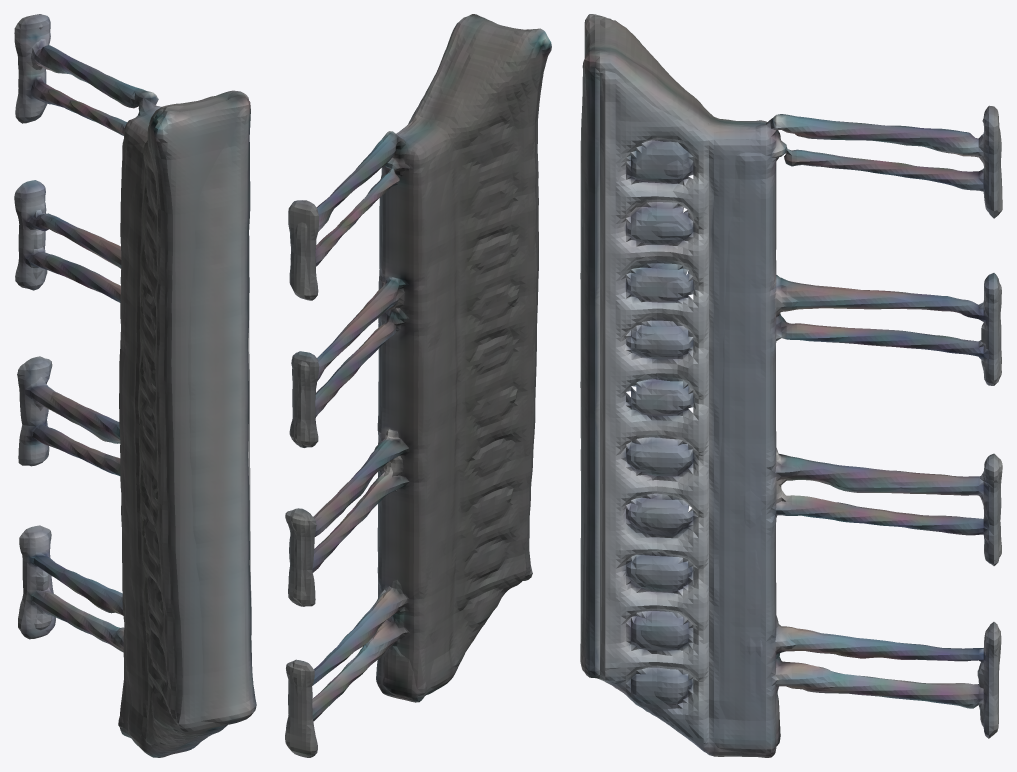
The model's file is conveyor-triposr.glb.
The picture shows the model from 3 angles, left to right: view 1: azimuth 30°, elevation 25°; view 2: azimuth 150°, elevation 25°; view 3: azimuth 270°, elevation 25°; orthographic projection. The views are drawn at different scales.
Visible parts, largest first — view 1: world; view 2: world; view 3: world.
Boxes of the visible parts, x1,y1,x2,y2 form: world: (14, 14, 256, 757); world: (285, 14, 551, 757); world: (580, 14, 1002, 757).
Size of the model in its own units: 0.3214 by 2 by 1.09.
